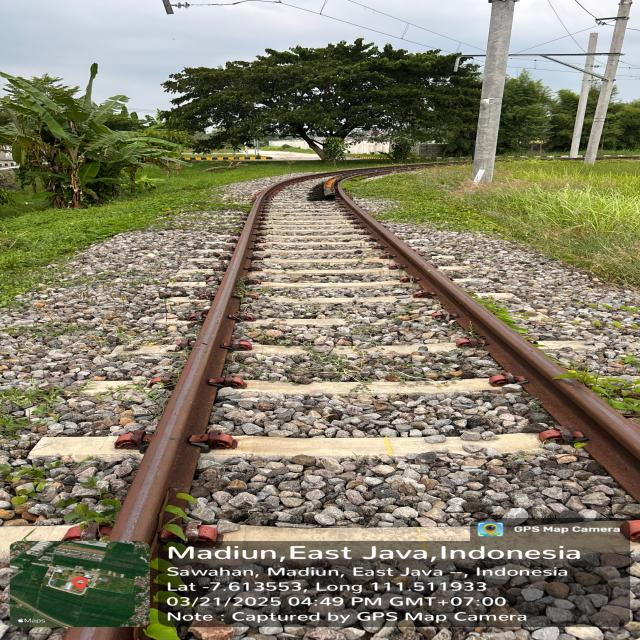rail-detection: (336, 186, 640, 500), (111, 188, 273, 542), (469, 293, 530, 341)
